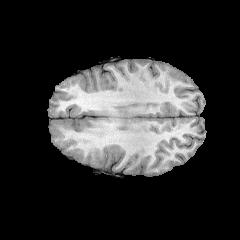glioma: (50, 120, 99, 141)
